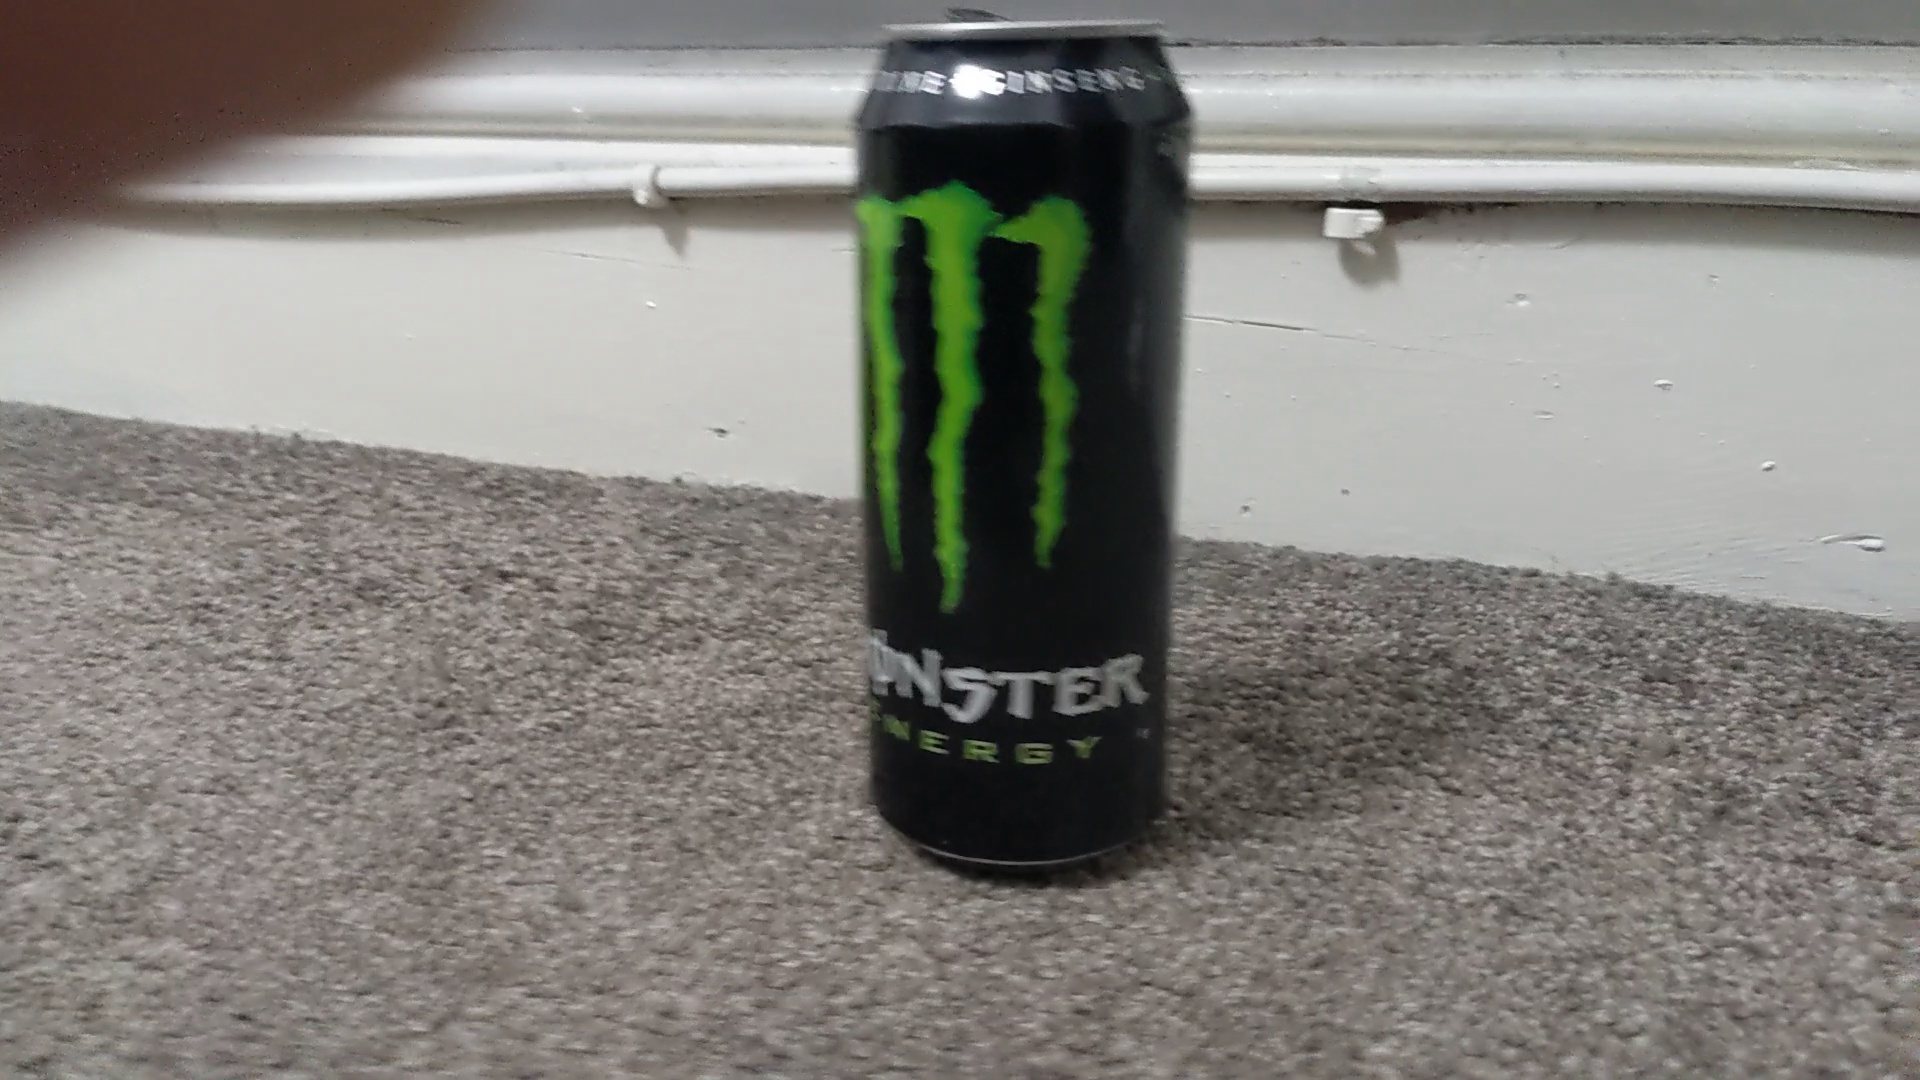monster-original: (855, 20, 1193, 869)
